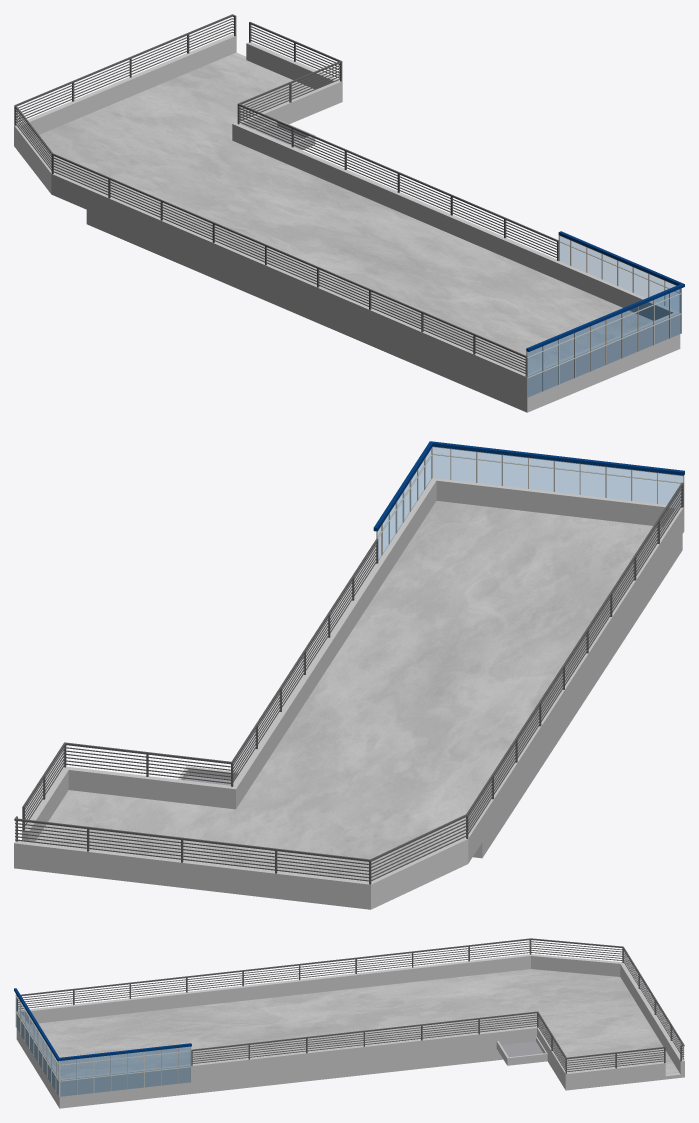
3 views of the same model, one above another, from view 1: azimuth 30°, elevation 25°; view 2: azimuth 150°, elevation 25°; view 3: azimuth 270°, elevation 25° (orthographic). The views are drawn at different scales.
Visible parts, largest first — view 1: A4_R_바닥, A4_R_벽, A4_R_난간, A4_R_난간창문; view 2: A4_R_바닥, A4_R_벽, A4_R_난간, A4_R_난간창문; view 3: A4_R_바닥, A4_R_벽, A4_R_난간, A4_R_난간창문.
Part boxes in pixels (box(x1,y1,x2,y2)): A4_R_바닥: box(30, 54, 652, 373); A4_R_벽: box(14, 34, 680, 412); A4_R_난간: box(14, 14, 558, 376); A4_R_난간창문: box(526, 231, 684, 397); A4_R_바닥: box(35, 501, 662, 880); A4_R_벽: box(14, 478, 683, 909); A4_R_난간: box(14, 482, 683, 884); A4_R_난간창문: box(373, 441, 684, 560); A4_R_바닥: box(30, 969, 679, 1078); A4_R_벽: box(16, 954, 684, 1108); A4_R_난간: box(16, 938, 684, 1073); A4_R_난간창문: box(14, 988, 191, 1096).
Size of the model in its own units: 25.37 by 4.72 by 56.34.
Materials: 7 (1 with a texture image).
